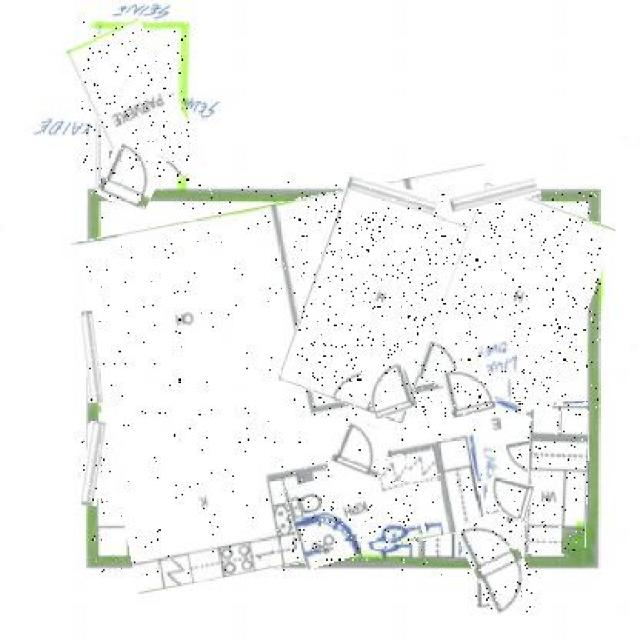door: (465, 512, 532, 612), (100, 145, 162, 209), (331, 423, 389, 488), (364, 357, 414, 417), (445, 365, 492, 417), (486, 478, 532, 518)
window: (346, 178, 437, 208), (449, 183, 537, 209), (82, 422, 105, 506), (83, 311, 102, 403)
zone: (86, 182, 537, 576), (432, 192, 602, 414), (294, 192, 457, 416), (81, 21, 192, 192), (288, 462, 422, 563), (528, 411, 588, 554)
